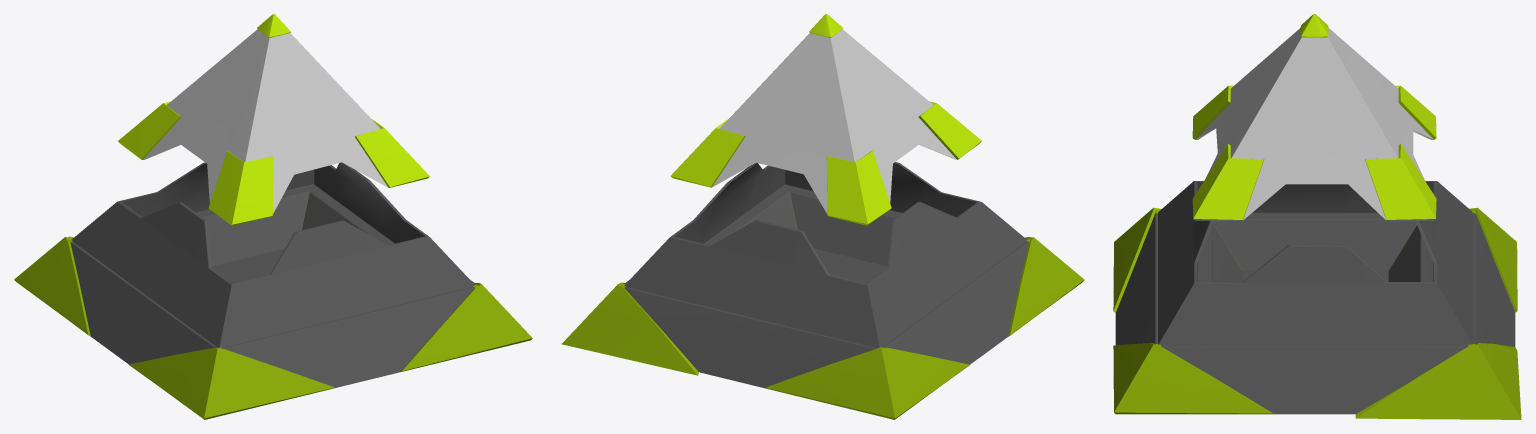
The model's file is Piramide.fbx.
The picture shows the model from 3 angles, left to right: view 1: azimuth 30°, elevation 25°; view 2: azimuth 150°, elevation 25°; view 3: azimuth 270°, elevation 25°; orthographic projection. The views are drawn at different scales.
Visible parts, largest first — view 1: pCube3; view 2: pCube3; view 3: pCube3.
Part boxes in pixels (bbox=[...]): pCube3: bbox=[14, 14, 532, 419]; pCube3: bbox=[561, 14, 1084, 419]; pCube3: bbox=[1113, 14, 1521, 419].
Size of the model in its own units: 6.34 by 5.46 by 6.34.
